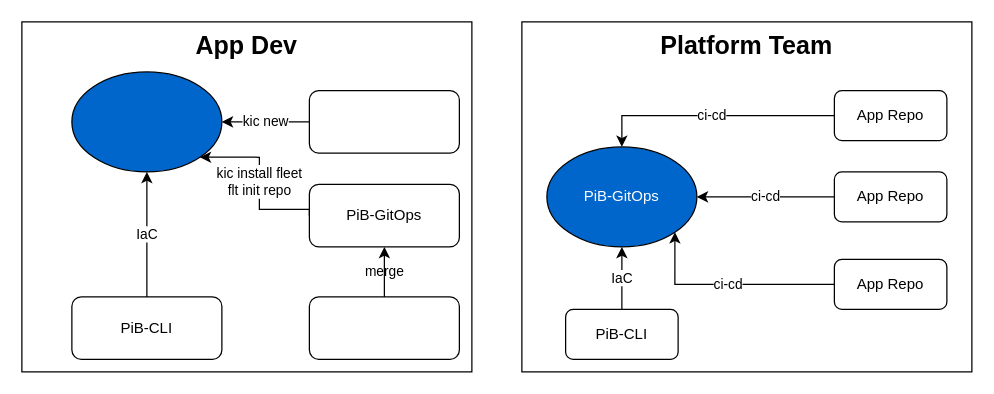
The diagram is 994 pixels wide and 394 high, and some of its shapes have lost their labels. The centre of each missing label's shape, as x and y in pixels:
PiB-App-Templates (dotnet, Java, Python, etc): point 383,121
pib-beta-fleet: point 383,327
PiB-Dev: point 146,121
